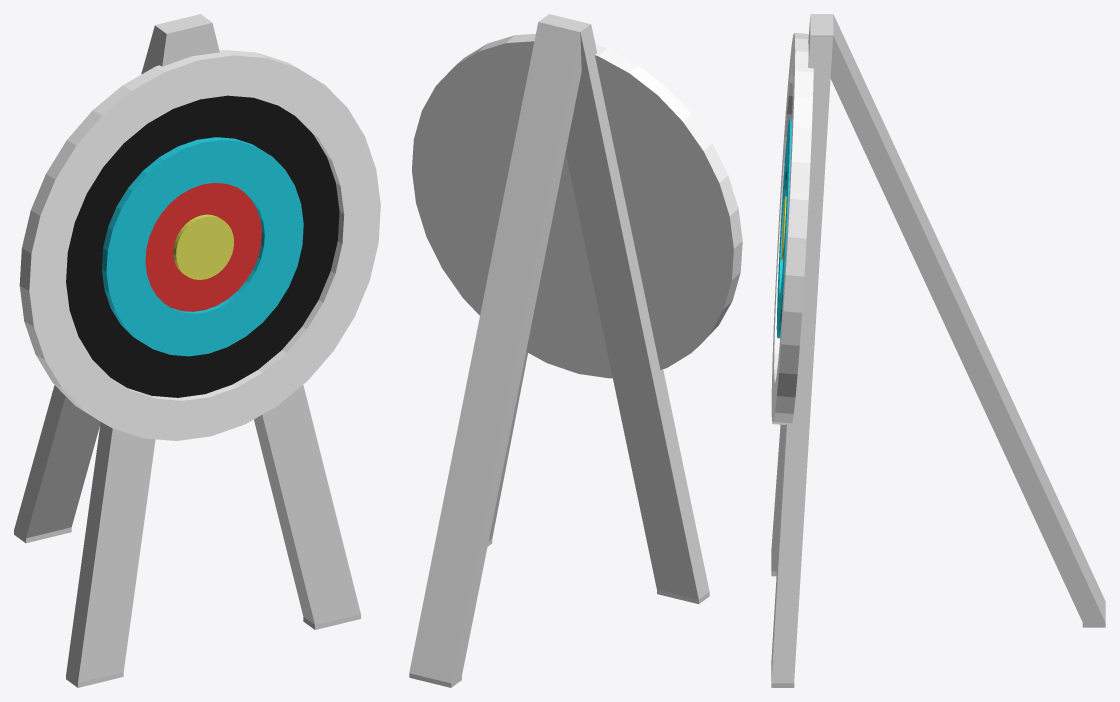
The model's file is target01.fbx.
3 renders of one model, left to right at view 1: azimuth 30°, elevation 25°; view 2: azimuth 150°, elevation 25°; view 3: azimuth 270°, elevation 25°, orthographic. The views are drawn at different scales.
Parts seen in each view (by area): view 1: Cylinder, Cube.002; view 2: Cube.002, Cylinder; view 3: Cube.002, Cylinder.
Boxes of the visible parts, bbox=[...] form: Cylinder: bbox=[19, 50, 380, 440]; Cube.002: bbox=[14, 14, 360, 687]; Cube.002: bbox=[409, 14, 709, 687]; Cylinder: bbox=[412, 33, 742, 378]; Cube.002: bbox=[771, 14, 1105, 687]; Cylinder: bbox=[771, 33, 813, 424].
Size of the model in its own units: 165 by 276 by 141.
